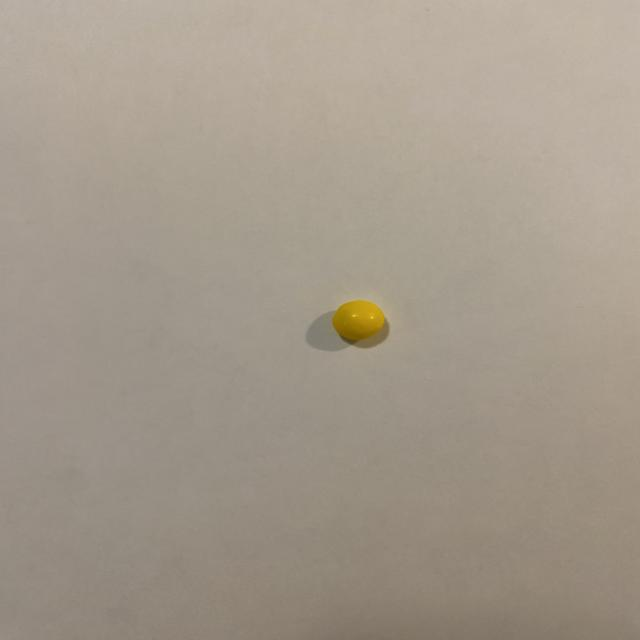smartie: (332, 300, 385, 340)
